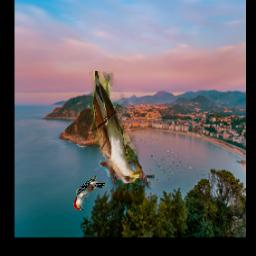Cuckoo: (90, 71, 140, 184)
Woodpecker: (73, 176, 106, 212)
